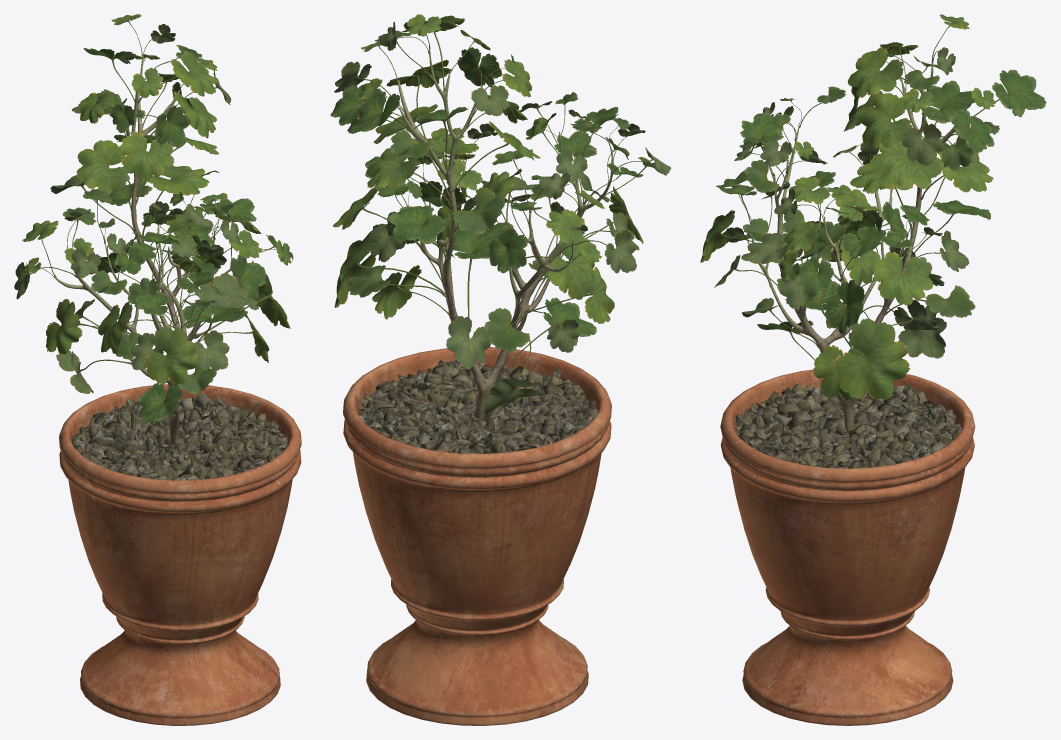
The model's file is plant_floor_pedestal.glb.
The picture shows the model from 3 angles, left to right: view 1: azimuth 30°, elevation 25°; view 2: azimuth 150°, elevation 25°; view 3: azimuth 270°, elevation 25°; orthographic projection. The views are drawn at different scales.
Parts seen in each view (by area): view 1: potted_plant_01_stem, potted_plant_01_leaves; view 2: potted_plant_01_stem, potted_plant_01_leaves; view 3: potted_plant_01_stem, potted_plant_01_leaves.
Part boxes in pixels (x1,y1,x2,y2): potted_plant_01_stem: (53,54,301,725); potted_plant_01_leaves: (14,14,293,423); potted_plant_01_stem: (343,48,612,725); potted_plant_01_leaves: (330,14,671,413); potted_plant_01_stem: (720,55,975,725); potted_plant_01_leaves: (700,14,1046,400).
Size of the model in its own units: 0.5874 by 1.34 by 0.6336.
2 materials, 2 textured.
